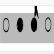correct: (16, 13, 24, 38)
not correct: (30, 6, 38, 32)
